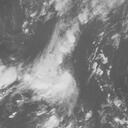cyclone: (29, 55, 77, 103)
